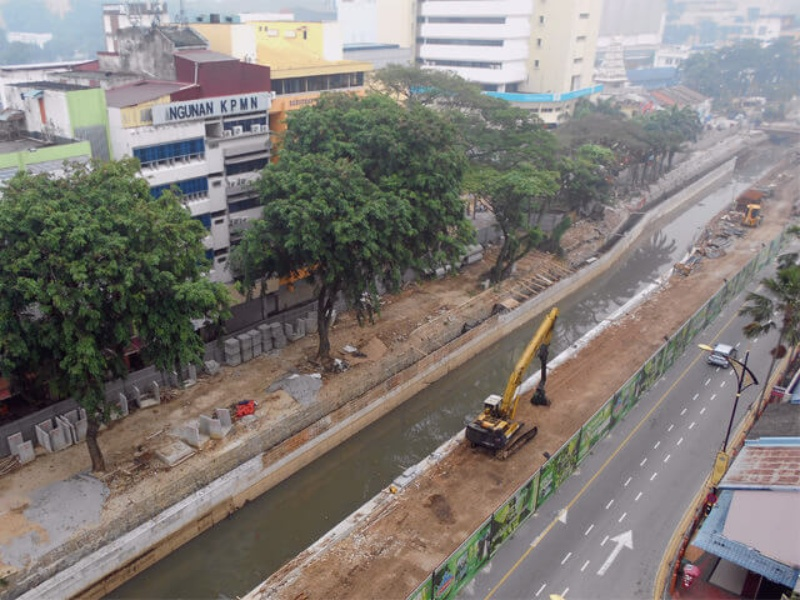excavator: (462, 304, 562, 463)
vehicle: (706, 342, 736, 369)
